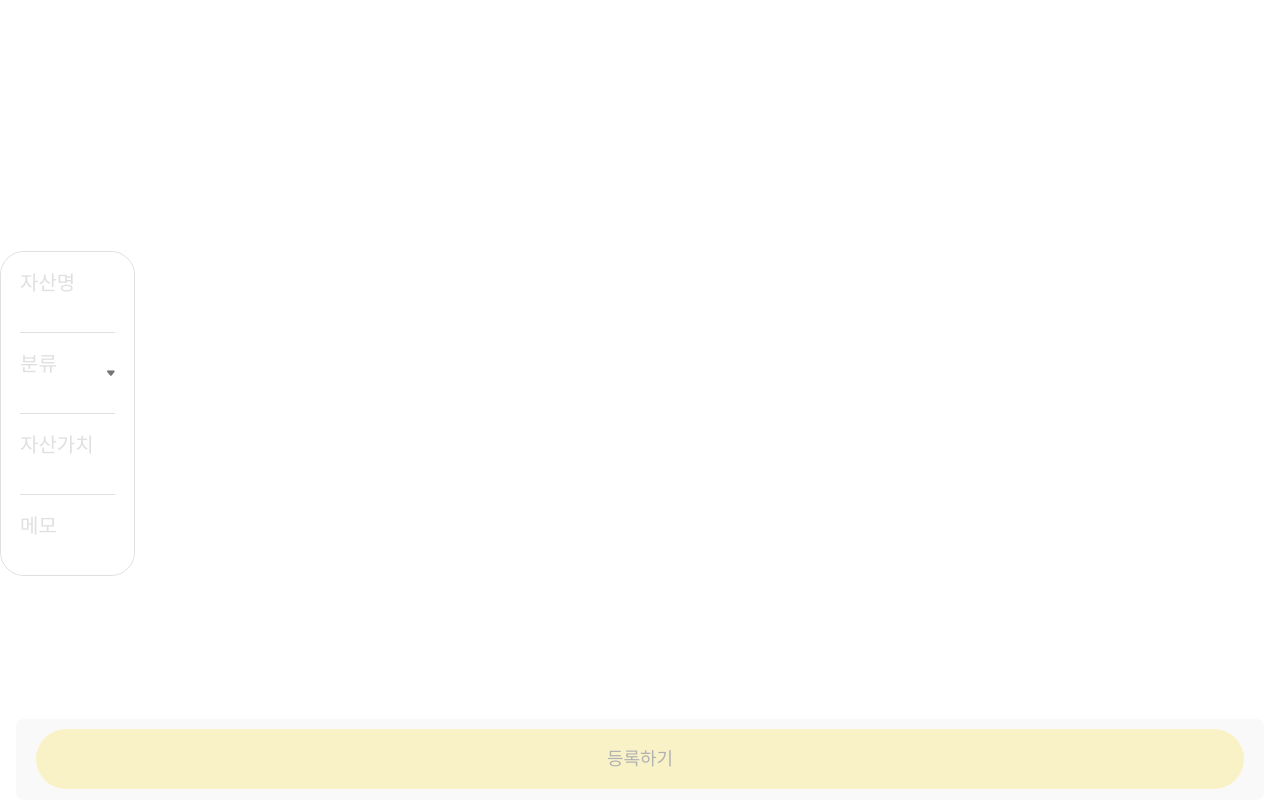
Test: RegisterAssetForm › 자산 분류 Placeholder는 “선택하세요”입니다.
Click the button with test id "button-분류" at [67, 372], box [1,332,134,412]
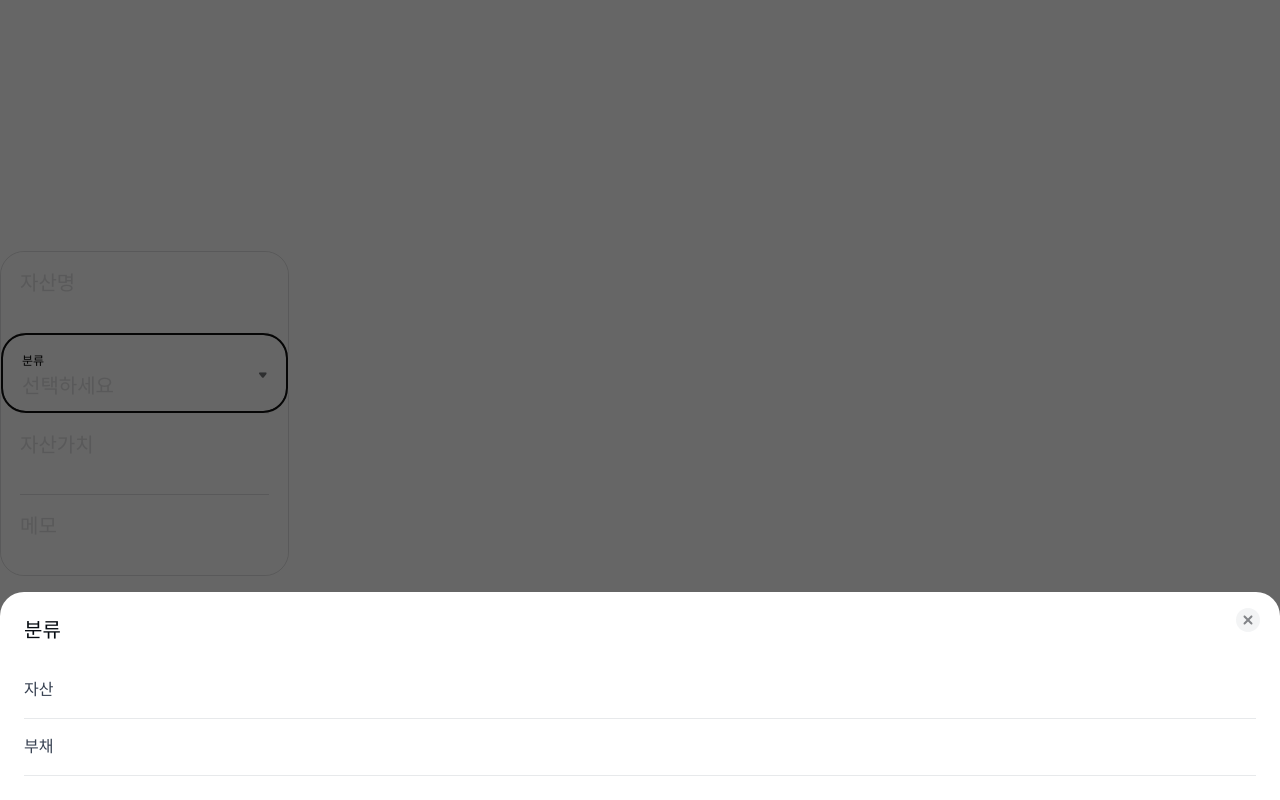
Now the field with placeholder "선택하세요" is shown, box [22,372,267,400]
